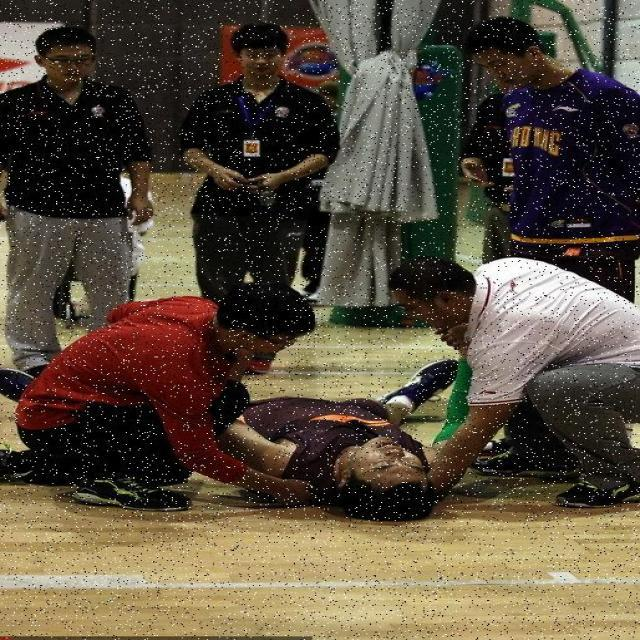fall: (240, 355, 454, 523)
